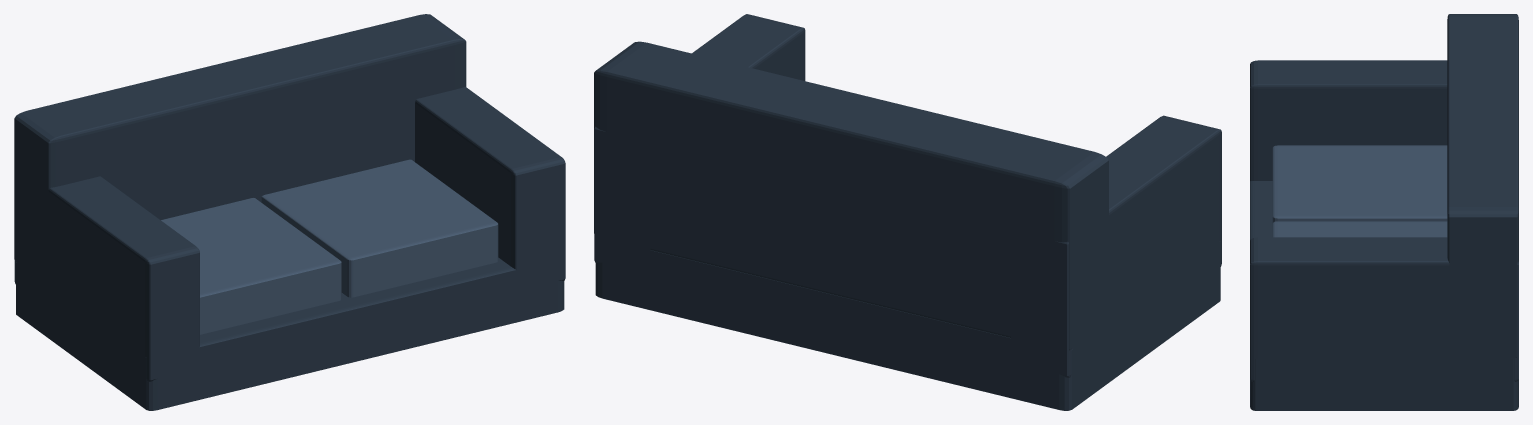
File: sofa_2.glb
3 views of the same model, side by side, from view 1: azimuth 30°, elevation 25°; view 2: azimuth 150°, elevation 25°; view 3: azimuth 270°, elevation 25° (orthographic). The views are drawn at different scales.
Visible parts, largest first — view 1: Cube.001, Cube, Cube.002, Cube.005, Cube.003, Cube.004; view 2: Cube.001, Cube, Cube.002, Cube.003; view 3: Cube.003, Cube.001, Cube.002, Cube, Cube.004, Cube.005.
Boxes of the visible parts, x1=… form: Cube.001: x1=14, y1=14, x2=466, y2=284; Cube: x1=16, y1=257, x2=564, y2=410; Cube.002: x1=14, y1=176, x2=199, y2=381; Cube.005: x1=261, y1=159, x2=498, y2=297; Cube.003: x1=415, y1=86, x2=565, y2=290; Cube.004: x1=161, y1=198, x2=341, y2=334; Cube.001: x1=594, y1=41, x2=1108, y2=350; Cube: x1=595, y1=238, x2=1220, y2=410; Cube.002: x1=1011, y1=115, x2=1221, y2=377; Cube.003: x1=594, y1=14, x2=805, y2=262; Cube.003: x1=1250, y1=237, x2=1518, y2=381; Cube.001: x1=1447, y1=14, x2=1518, y2=357; Cube.002: x1=1250, y1=60, x2=1447, y2=181; Cube: x1=1250, y1=181, x2=1518, y2=410; Cube.004: x1=1272, y1=145, x2=1447, y2=222; Cube.005: x1=1272, y1=221, x2=1447, y2=237.
Bounding box in the file's own units: 1.6 × 0.755 × 0.9.
